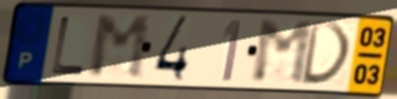1: (220, 18, 244, 84)
4: (151, 14, 191, 85)
D: (299, 19, 355, 87)
L: (48, 13, 89, 77)
M: (251, 19, 316, 87), (88, 13, 153, 81)
